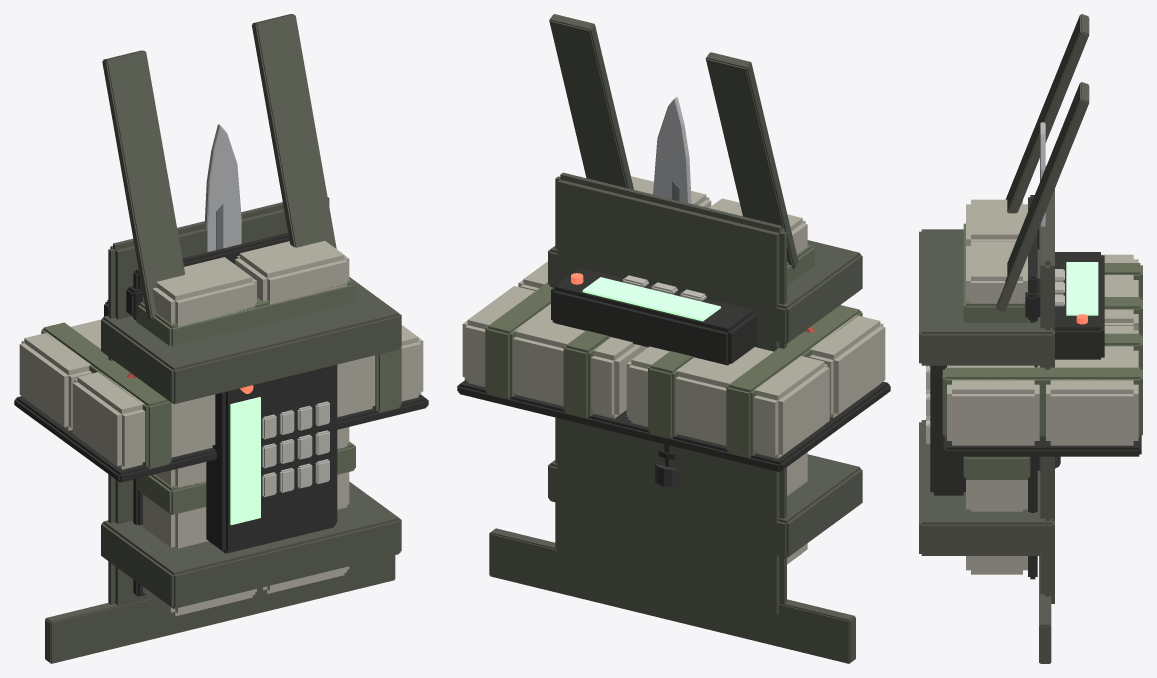
The model's file is gear.glb.
The picture shows the model from 3 angles, left to right: view 1: azimuth 30°, elevation 25°; view 2: azimuth 150°, elevation 25°; view 3: azimuth 270°, elevation 25°; orthographic projection. The views are drawn at different scales.
Visible parts, largest first — view 1: pack_band+0.08, pack_band-0.09, pack_charge_timer, pack_shoulder-1, pack_shoulder1, pack_waist, charge_putty00, pack_plate, pack_charge_putty10, pack_charge_putty11, charge_putty01, pack_charge_tape+0.10 (+10 smaller); view 2: pack_plate, pack_waist, charge_putty01, charge_putty11, pack_band-0.09, charge_timer, pack_shoulder-1, pack_shoulder1, pack_band+0.08, charge_tray, charge_putty00, charge_tape-0.10 (+7 smaller); view 3: pack_band+0.08, pack_band-0.09, charge_putty11, charge_putty10, charge_tape+0.10, pack_shoulder1, pack_plate, pack_shoulder-1, charge_timer, pack_charge_putty00, pack_charge_putty10, pack_charge_timer (+13 smaller).
Part boxes in pixels (box(x1,y1,x2,y2)): pack_band+0.08: box(101, 277, 401, 404); pack_band-0.09: box(101, 481, 401, 608); pack_charge_timer: box(206, 364, 337, 553); pack_shoulder-1: box(102, 50, 184, 319); pack_shoulder1: box(252, 14, 336, 248); pack_waist: box(45, 555, 395, 663); charge_putty00: box(72, 372, 215, 469); pack_plate: box(108, 197, 329, 606); pack_charge_putty10: box(235, 241, 349, 304); pack_charge_putty11: box(143, 257, 256, 326); charge_putty01: box(19, 319, 101, 430); pack_charge_tape+0.10: box(136, 279, 355, 346); pack_plate: box(555, 172, 786, 615); pack_waist: box(489, 528, 855, 663); charge_putty01: box(626, 346, 829, 458); charge_putty11: box(462, 286, 647, 418); pack_band-0.09: box(548, 454, 862, 558); charge_timer: box(551, 268, 757, 365); pack_shoulder-1: box(705, 52, 798, 268); pack_shoulder1: box(549, 14, 633, 189); pack_band+0.08: box(548, 240, 862, 344); charge_tray: box(457, 380, 890, 472); charge_putty00: box(809, 315, 885, 417); charge_tape-0.10: box(726, 305, 862, 457); pack_band+0.08: box(919, 229, 1054, 365); pack_band-0.09: box(919, 420, 1054, 555); charge_putty11: box(1046, 326, 1138, 445); charge_putty10: box(947, 365, 1039, 445); charge_tape+0.10: box(942, 367, 1142, 437); pack_shoulder1: box(996, 82, 1089, 311); pack_plate: box(1040, 166, 1054, 603); pack_shoulder-1: box(1005, 14, 1089, 213); charge_timer: box(1055, 252, 1104, 359); pack_charge_putty00: box(966, 480, 1027, 574); pack_charge_putty10: box(966, 241, 1027, 303); pack_charge_timer: box(930, 365, 965, 495).
Size of the model in its own units: 0.3 by 0.4725 by 0.181.
